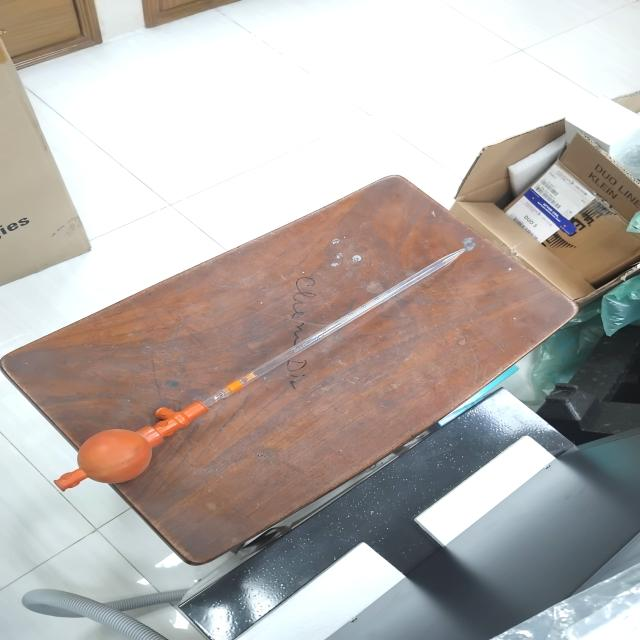Volumetric_Pipet: (28, 214, 526, 528)
